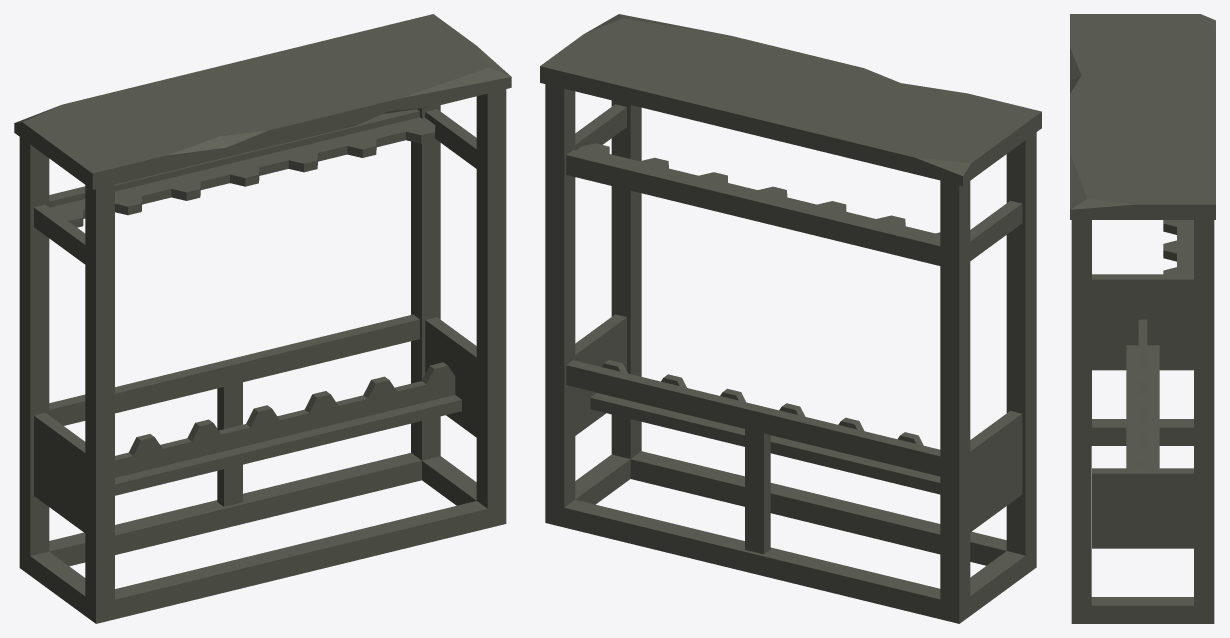
Rendered from SM_Prop_Gunrack_01.fbx.
The picture shows the model from 3 angles, left to right: view 1: azimuth 30°, elevation 25°; view 2: azimuth 150°, elevation 25°; view 3: azimuth 270°, elevation 25°; orthographic projection. The views are drawn at different scales.
Visible parts, largest first — view 1: SM_Prop_Gunrack_01; view 2: SM_Prop_Gunrack_01; view 3: SM_Prop_Gunrack_01.
Boxes of the visible parts, <box> form: SM_Prop_Gunrack_01: <box>14,14,511,623</box>; SM_Prop_Gunrack_01: <box>540,14,1041,623</box>; SM_Prop_Gunrack_01: <box>1070,14,1215,623</box>.
Size of the model in its own units: 126 by 129 by 40.6.
